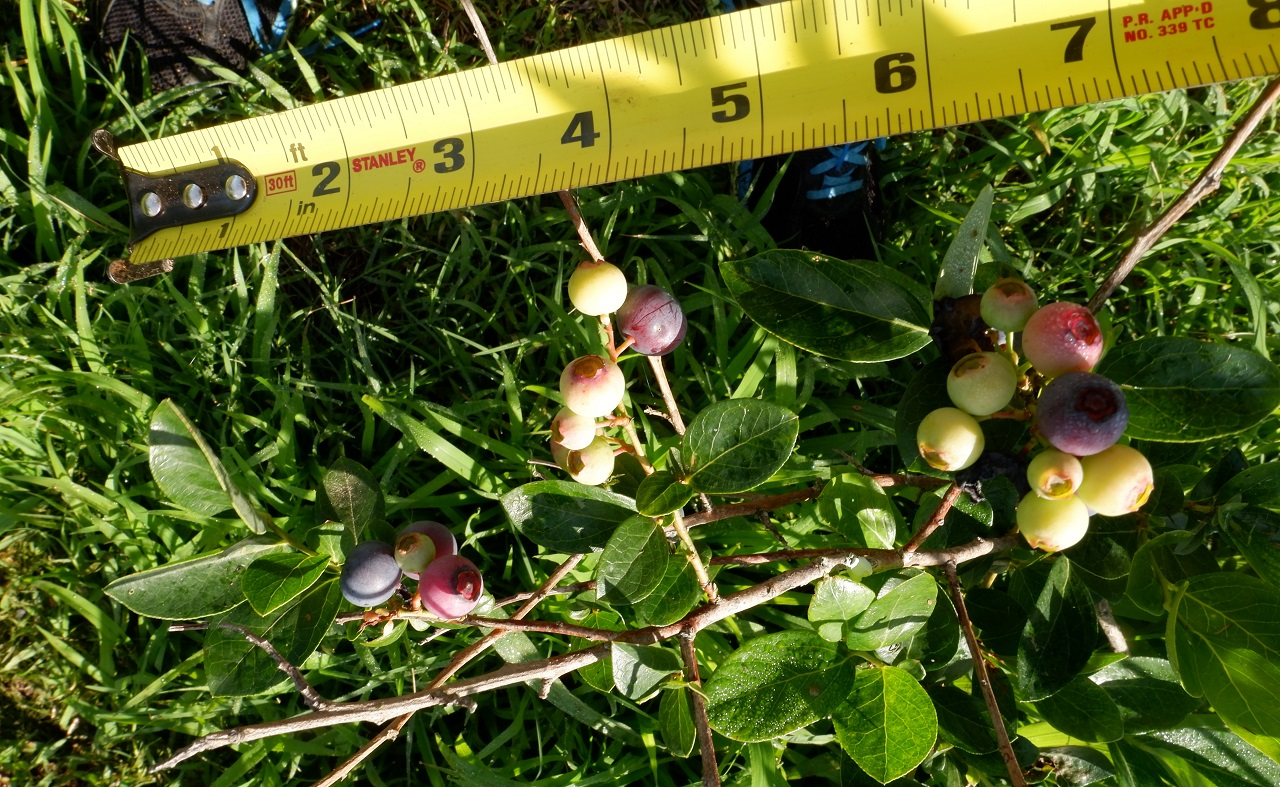Immature: (1037, 371, 1130, 457), (1022, 301, 1103, 379), (1074, 443, 1154, 517), (947, 351, 1018, 415), (1016, 490, 1089, 552), (917, 407, 985, 471), (559, 354, 626, 417), (418, 555, 483, 619), (395, 521, 458, 580), (568, 259, 628, 316), (980, 277, 1039, 333), (1027, 449, 1083, 501), (566, 436, 615, 485), (550, 406, 598, 451), (395, 533, 436, 573), (550, 435, 570, 473)
Mature: (615, 284, 688, 356), (339, 540, 403, 608)
